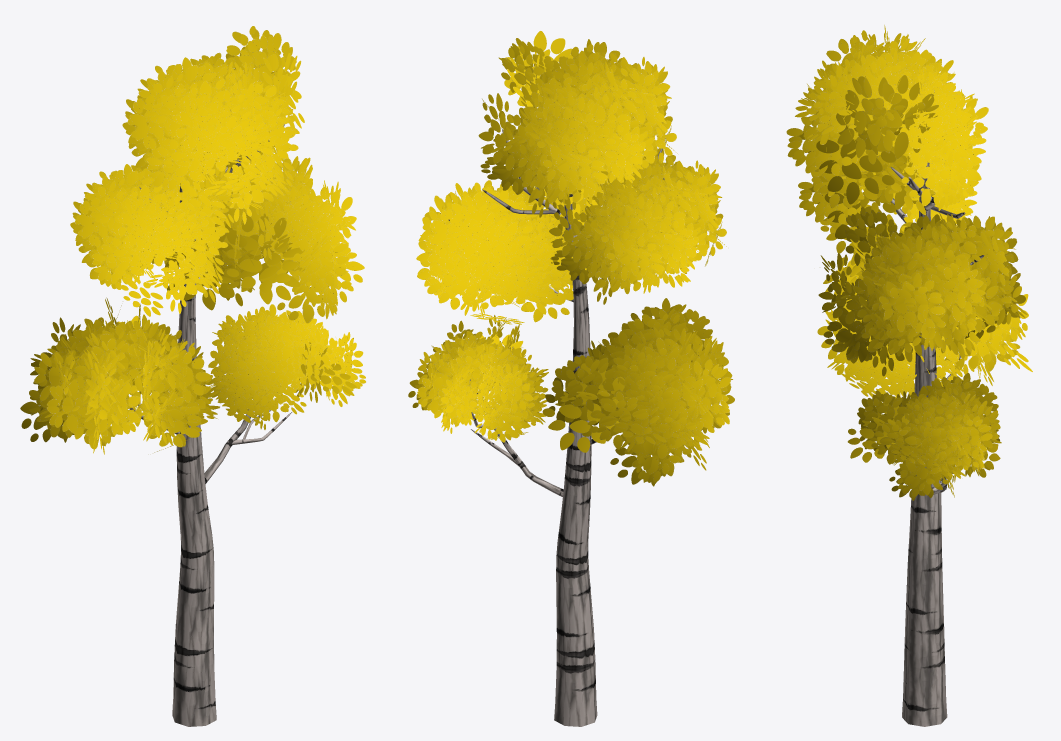
File: R7qMWzb7nk.glb
3 views of the same model, side by side, from view 1: azimuth 30°, elevation 25°; view 2: azimuth 150°, elevation 25°; view 3: azimuth 270°, elevation 25° (orthographic). The views are drawn at different scales.
Parts seen in each view (by area): view 1: BirchTree_1; view 2: BirchTree_1; view 3: BirchTree_1.
Boxes of the visible parts, x1,y1,x2,y2 form: BirchTree_1: (20,26,365,726); BirchTree_1: (408,31,734,726); BirchTree_1: (786,25,1032,726).
Bounding box in the file's own units: 2.71 × 5.45 × 1.94.
2 materials, 2 textured.
